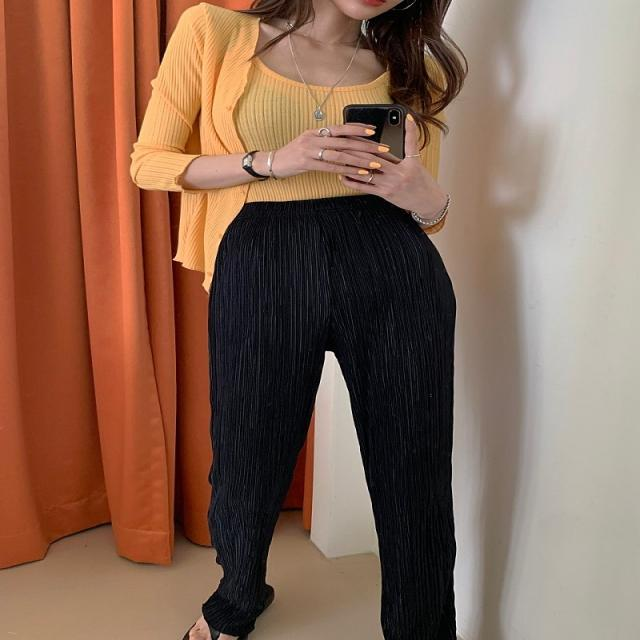phone: (342, 104, 406, 184)
